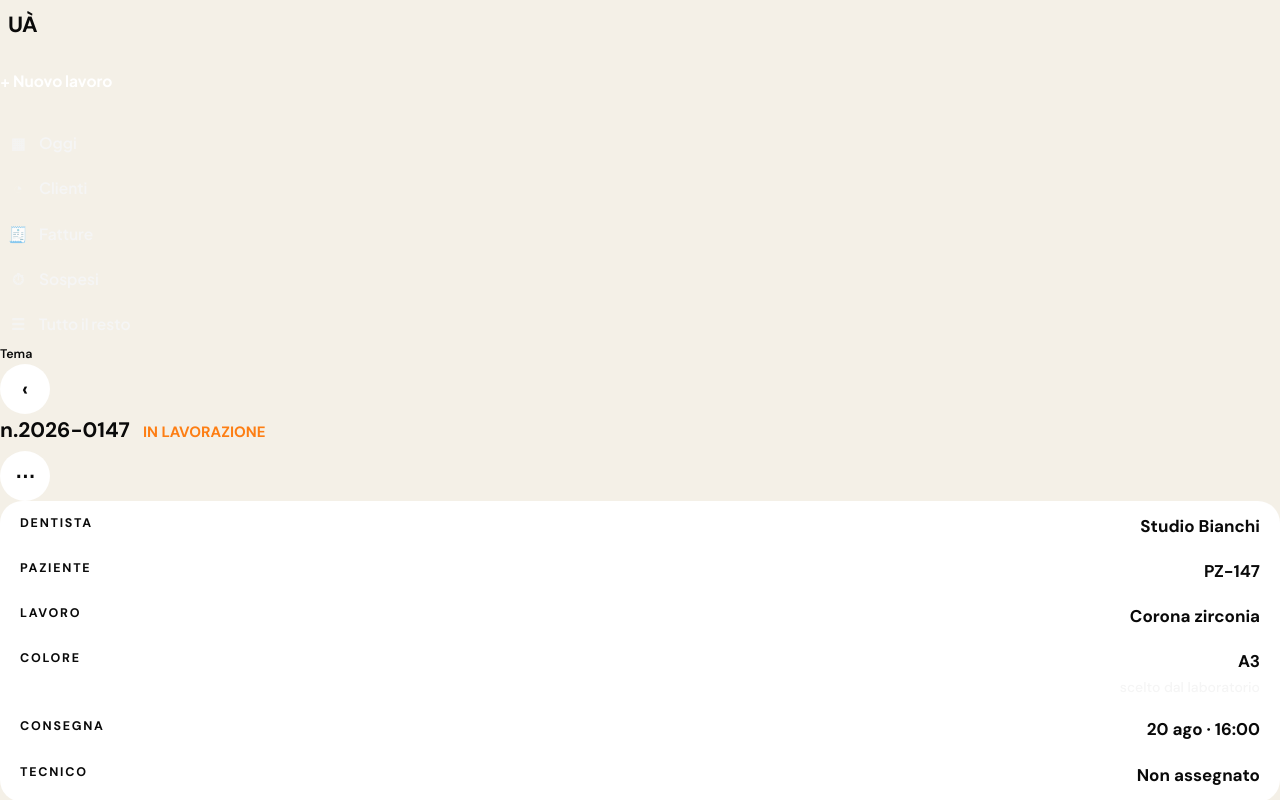
La riga «Colore» nella scheda (D225②) › il tap apre il foglio «Colore» col valore attuale già dentro
This screenshot has width=1280, height=800.
Click the button with aria-label "Modifica colore". click: (50, 658)
box: [20, 640, 1260, 706]
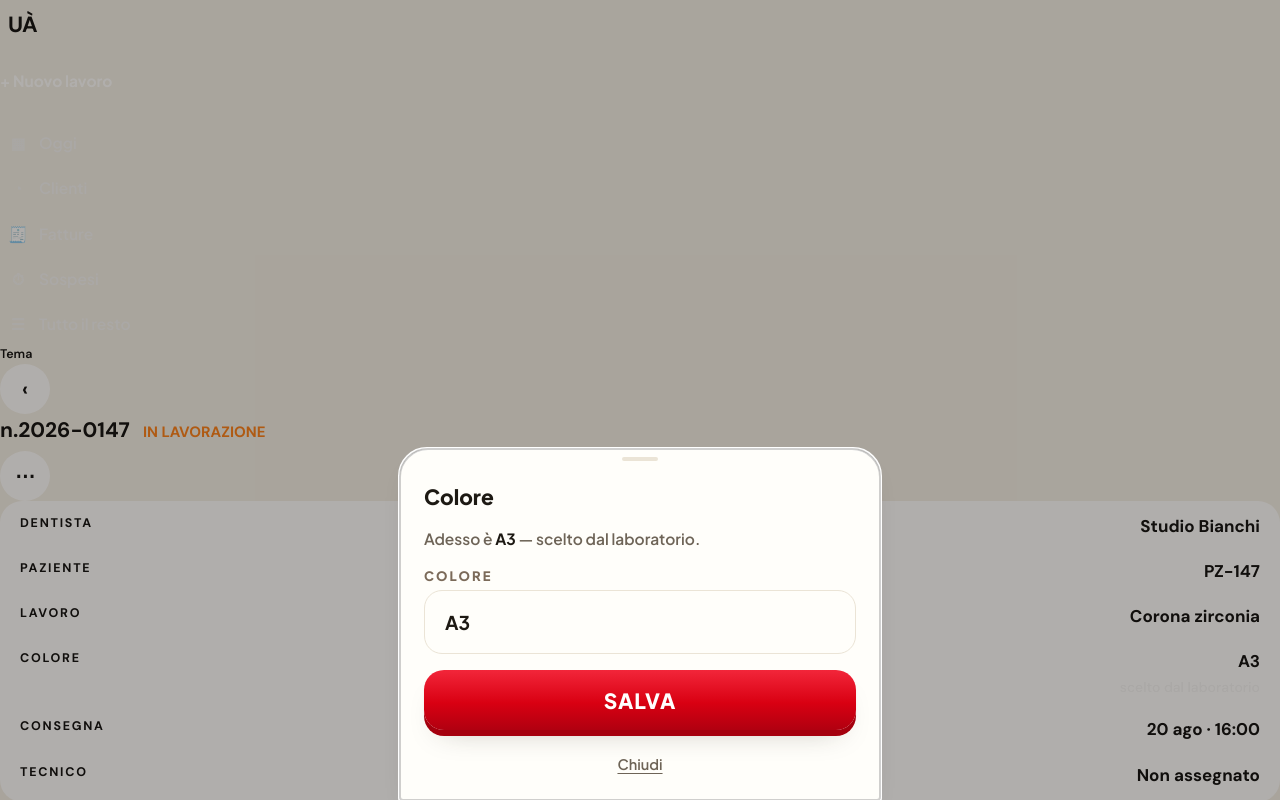
Expected: the dialog is shown, [400, 449, 880, 799]
Expected: the field labelled "Colore" holds "A3", [424, 590, 856, 654]
